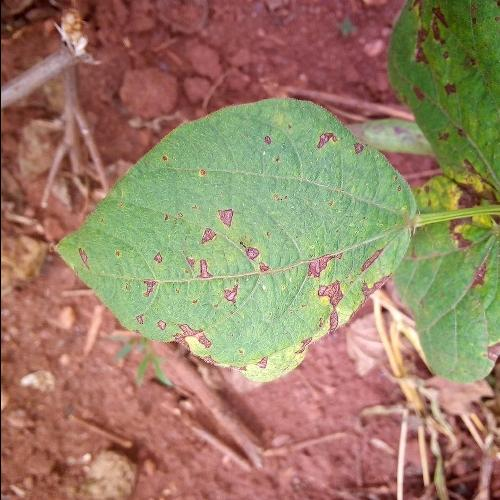hawar: (132, 159, 282, 364), (288, 233, 384, 349), (312, 121, 365, 165), (73, 244, 90, 274)
